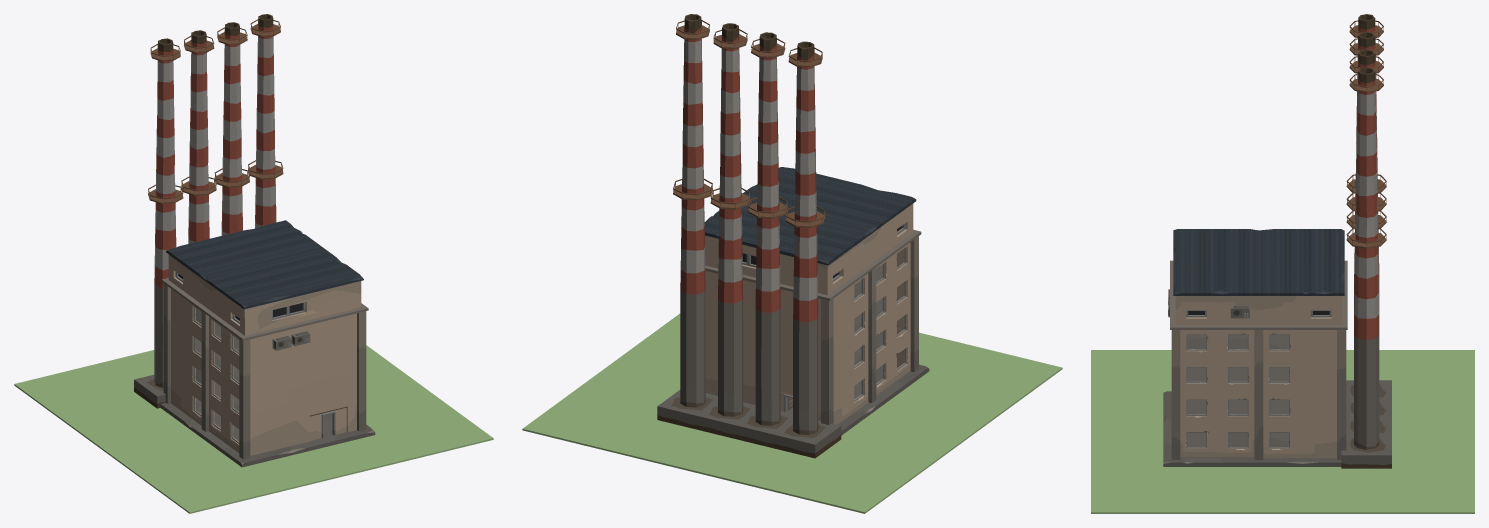
Rendered from coal-power-plant.glb.
The picture shows the model from 3 angles, left to right: view 1: azimuth 30°, elevation 25°; view 2: azimuth 150°, elevation 25°; view 3: azimuth 270°, elevation 25°; orthographic projection. The views are drawn at different scales.
Visible parts, largest first — view 1: CoalPlant_Main, Ground, CoalPlant_Stack_0, CoalPlant_Stack_1, CoalPlant_Stack_3, CoalPlant_Stack_2; view 2: Ground, CoalPlant_Main, CoalPlant_Stack_0, CoalPlant_Stack_1, CoalPlant_Stack_2, CoalPlant_Stack_3; view 3: CoalPlant_Main, Ground, CoalPlant_Stack_3, CoalPlant_Stack_1, CoalPlant_Stack_2, CoalPlant_Stack_0.
Part boxes in pixels (bbox=[...]): CoalPlant_Main: bbox=[160, 220, 375, 467]; Ground: bbox=[14, 345, 493, 513]; CoalPlant_Stack_0: bbox=[134, 38, 183, 408]; CoalPlant_Stack_1: bbox=[181, 30, 216, 243]; CoalPlant_Stack_3: bbox=[248, 14, 283, 228]; CoalPlant_Stack_2: bbox=[214, 22, 249, 235]; Ground: bbox=[522, 313, 1062, 513]; CoalPlant_Main: bbox=[704, 167, 929, 435]; CoalPlant_Stack_0: bbox=[770, 41, 841, 458]; CoalPlant_Stack_1: bbox=[733, 32, 792, 449]; CoalPlant_Stack_2: bbox=[695, 23, 755, 439]; CoalPlant_Stack_3: bbox=[657, 14, 717, 428]; CoalPlant_Main: bbox=[1163, 229, 1347, 466]; Ground: bbox=[1091, 350, 1474, 513]; CoalPlant_Stack_3: bbox=[1341, 67, 1391, 468]; CoalPlant_Stack_1: bbox=[1346, 32, 1391, 419]; CoalPlant_Stack_2: bbox=[1346, 49, 1391, 437]; CoalPlant_Stack_0: bbox=[1346, 14, 1391, 399].
Bounding box in the file's own units: 32 × 35.73 × 32.
Materials: 2 (1 with a texture image).
